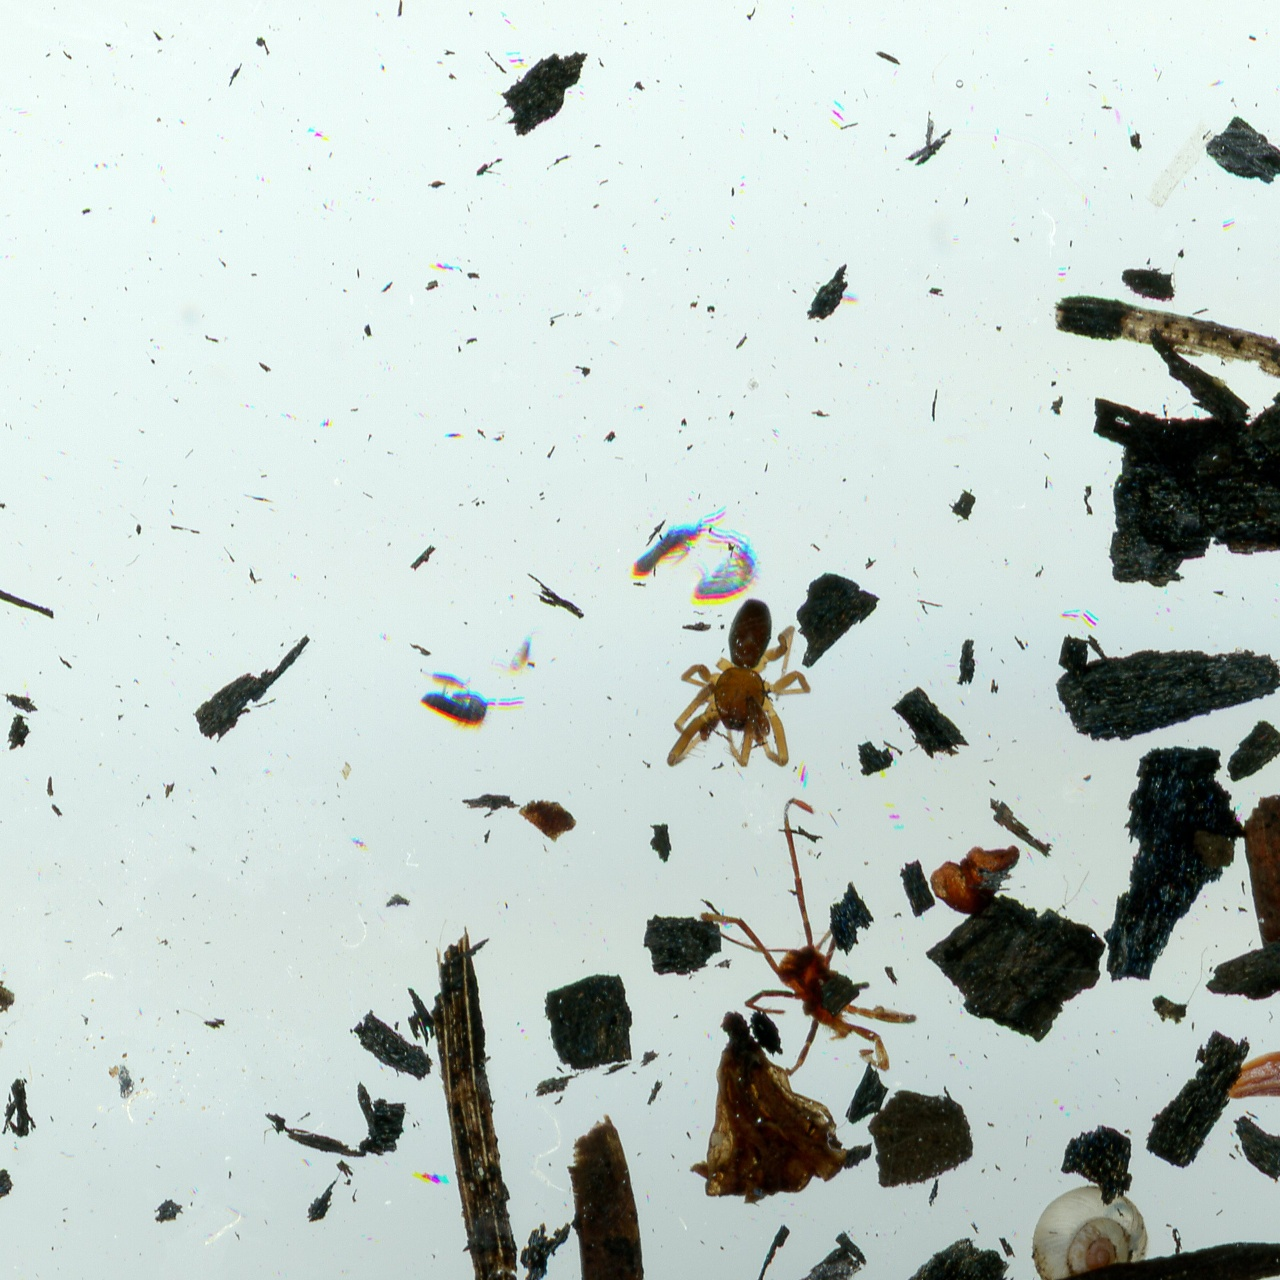arthropod: (697, 792, 920, 1077), (663, 598, 813, 770), (1015, 1166, 1169, 1280), (625, 483, 735, 605), (690, 525, 767, 613), (415, 687, 527, 736), (408, 660, 475, 700), (489, 626, 545, 673)
